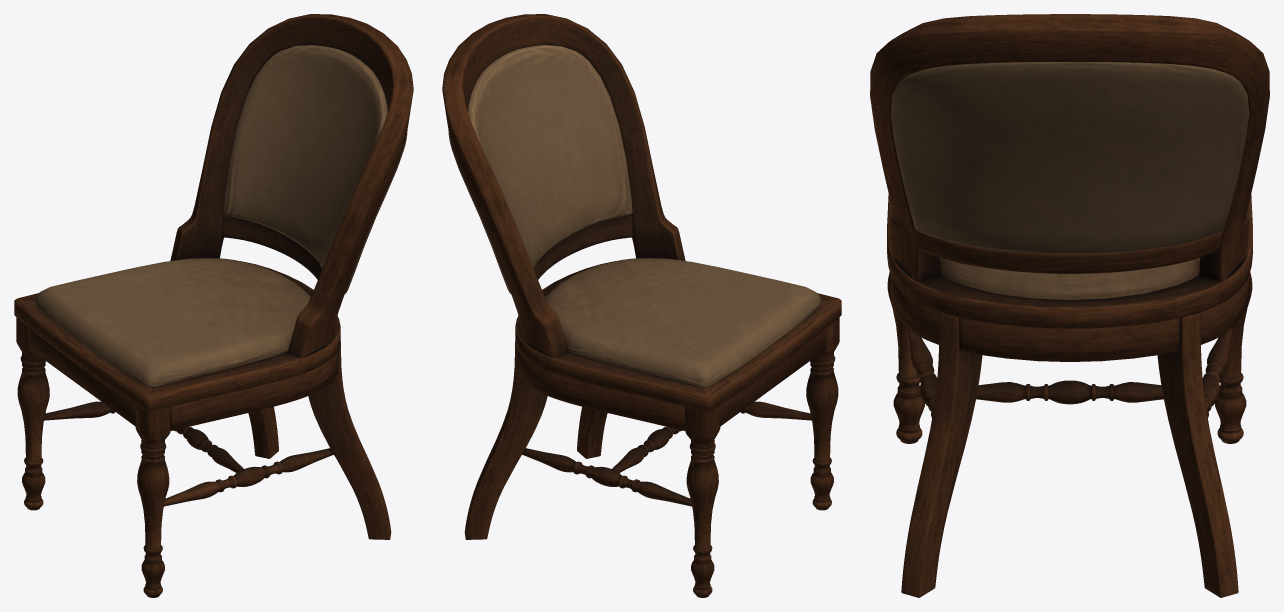
Rendered from chair_new.fbx.
3 renders of one model, left to right at view 1: azimuth 30°, elevation 25°; view 2: azimuth 150°, elevation 25°; view 3: azimuth 270°, elevation 25°, orthographic. The views are drawn at different scales.
Visible parts, largest first — view 1: Chair; view 2: Chair; view 3: Chair.
Boxes of the visible parts, x1,y1,x2,y2 form: Chair: (14,14,413,597); Chair: (442,14,841,597); Chair: (870,14,1269,597).
Bounding box in the file's own units: 66.39 × 92.68 × 55.36.
